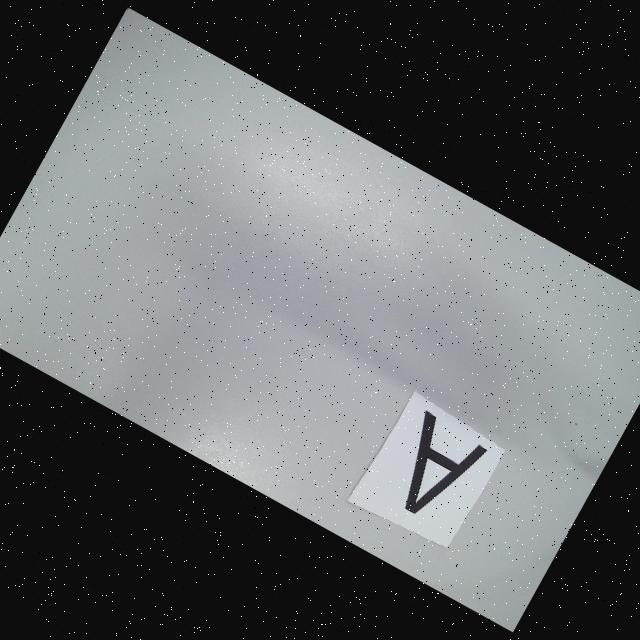FAKE: (379, 410, 490, 531)
